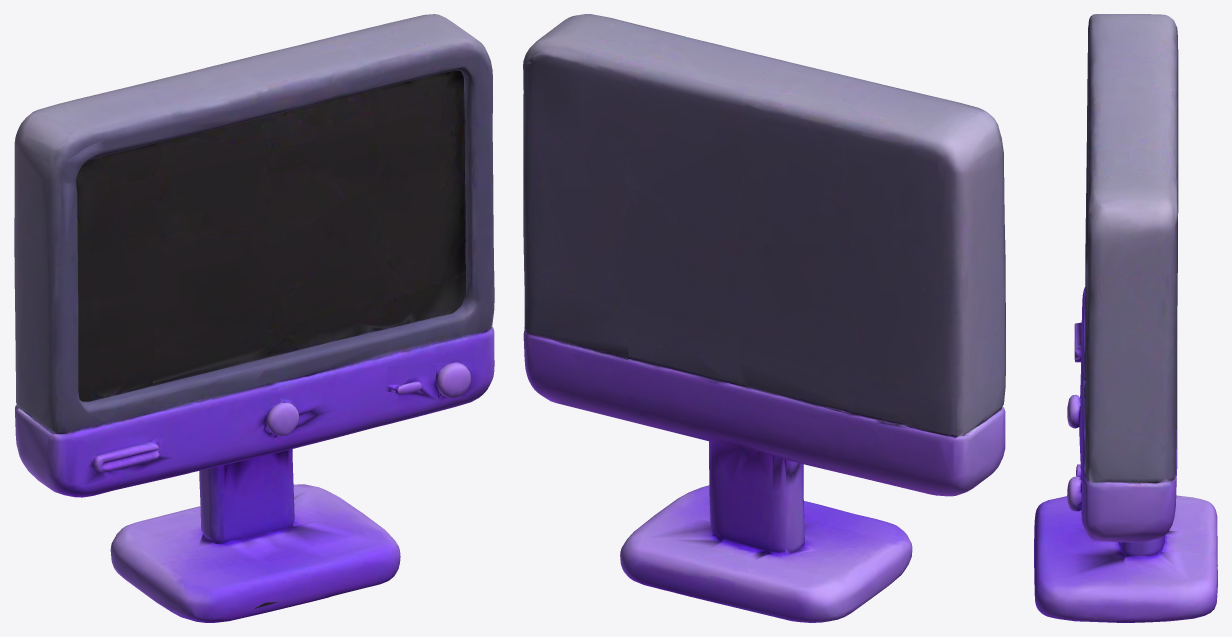
The model's file is junior_monitor.glb.
The picture shows the model from 3 angles, left to right: view 1: azimuth 30°, elevation 25°; view 2: azimuth 150°, elevation 25°; view 3: azimuth 270°, elevation 25°; orthographic projection. The views are drawn at different scales.
Parts seen in each view (by area): view 1: tripo_node_57a59926-61e5-4c11-b3d6-359221b5dbf1; view 2: tripo_node_57a59926-61e5-4c11-b3d6-359221b5dbf1; view 3: tripo_node_57a59926-61e5-4c11-b3d6-359221b5dbf1.
Boxes of the visible parts, bbox=[...] form: tripo_node_57a59926-61e5-4c11-b3d6-359221b5dbf1: bbox=[14, 14, 494, 622]; tripo_node_57a59926-61e5-4c11-b3d6-359221b5dbf1: bbox=[523, 14, 1005, 622]; tripo_node_57a59926-61e5-4c11-b3d6-359221b5dbf1: bbox=[1034, 14, 1217, 622].
Size of the model in its own units: 0.9145 by 0.9799 by 0.3462.
1 material, 1 textured.
